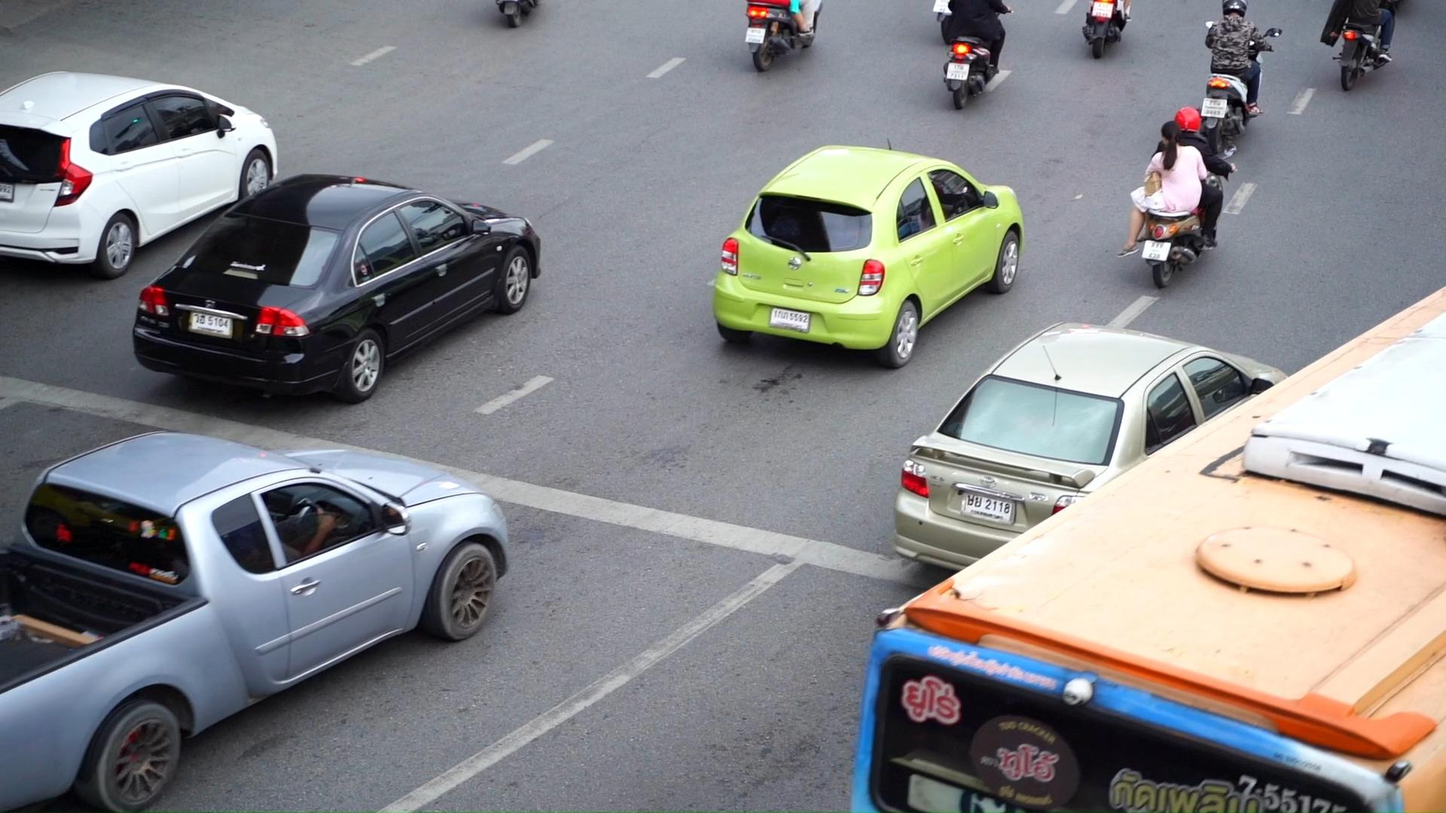driver: (1117, 107, 1238, 289), (1198, 0, 1283, 154), (943, 0, 1013, 109)
helmet: (1174, 107, 1199, 133), (1221, 1, 1249, 18)
no-helmet: (1161, 120, 1182, 148)
